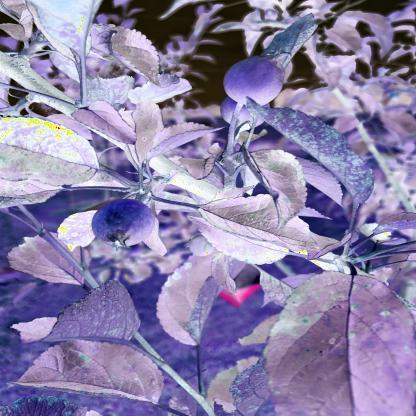Apple Scab Leaf: (257, 262, 416, 415), (240, 94, 386, 214), (26, 271, 158, 356), (0, 112, 106, 192), (258, 14, 324, 70)
